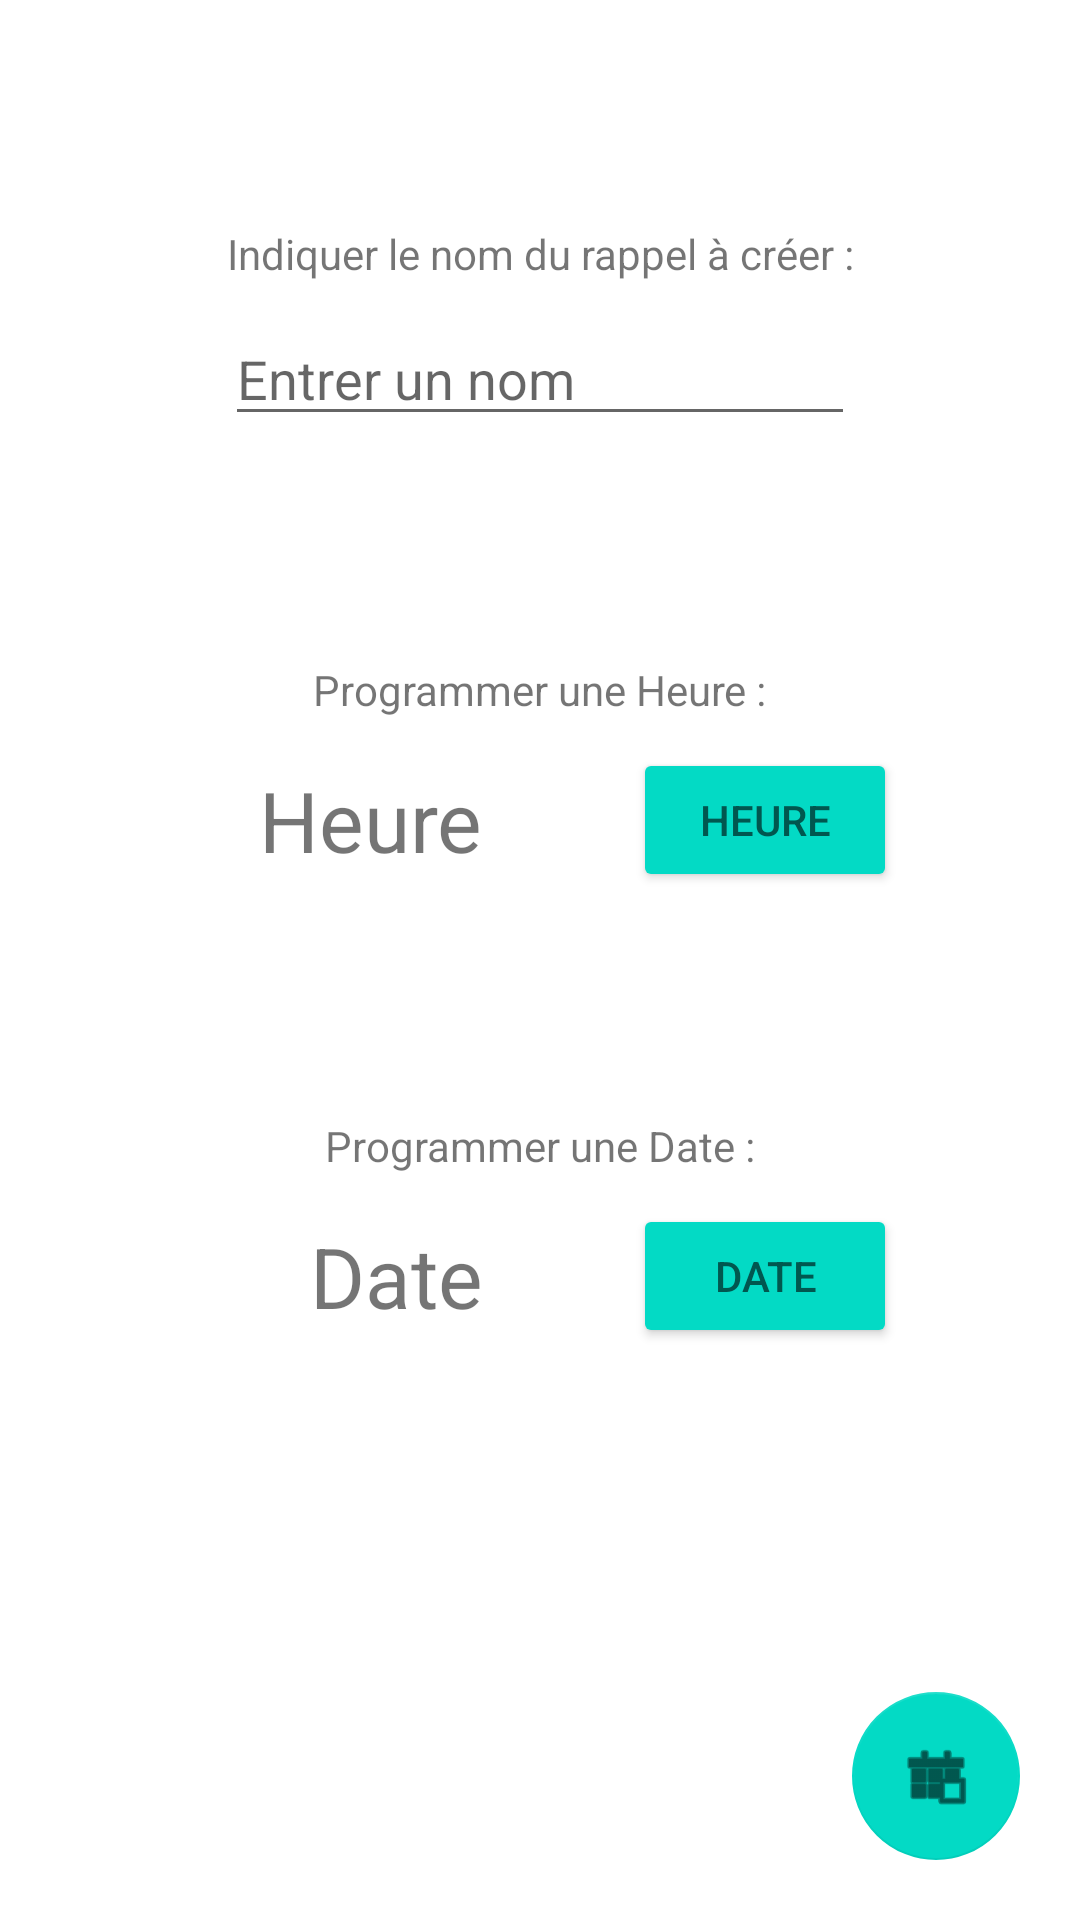

Icon click points for this 1080*1920 phone screenshot, format point (x, y):
today: point (936, 1776)
